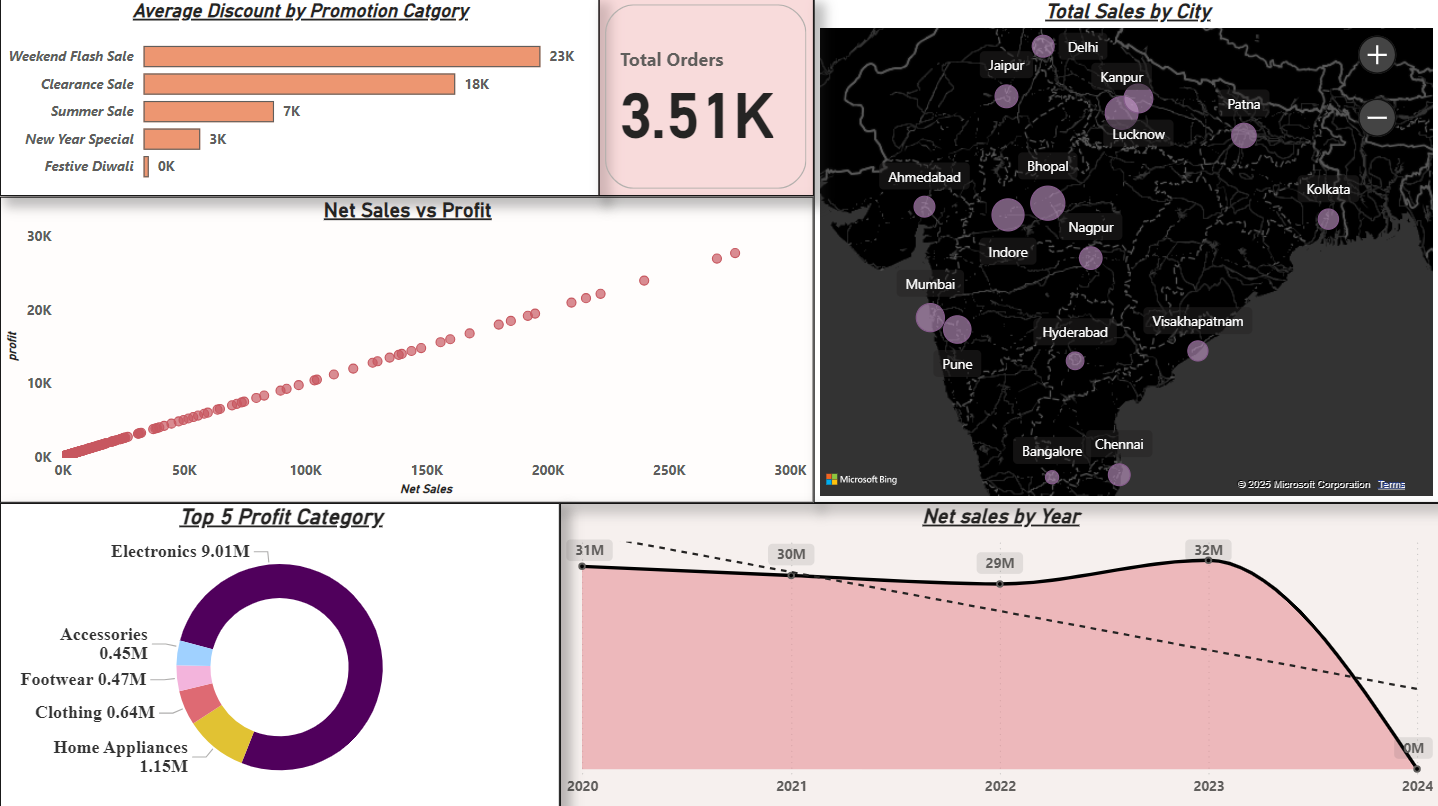

What the dashboard file says about the page in this screenshot:
{"tool":"powerbi","page":{"name":"sales by region,catgory and total order","canvas":[1280,720],"ordinal":0},"visuals":[{"type":"scatterChart","title":"Net Sales vs Profit","fields":{"X":["Fact Table.net sales"],"Y":["Fact Table.profit"]},"box":[0,177,691.6,249.7],"z":0},{"type":"barChart","title":"Average Discount by Promotion Catgory","fields":{"Y":["Avg(Fact Table.discount value )"],"Category":["Dim Promotion.Promotion Name"]},"box":[0,0,502.2,176.7],"z":1000},{"type":"map","title":"Total Sales by City","fields":{"Category":["Dim Customers.City"],"Size":["Sum(Fact Table.net sales)"]},"box":[691.6,0,587.3,426.8],"z":2000},{"type":"cardVisual","title":"Total Orders","fields":{"Data":["Count(Fact Table.Order ID)"]},"box":[502.2,0,190,176.7],"z":3000},{"type":"areaChart","fields":{"Y":["Sum(Fact Table.net sales)"],"Category":["Date Table 1.Date.Variation.Date Hierarchy.Year","Date Table 1.Date.Variation.Date Hierarchy.Quarter","Date Table 1.Date.Variation.Date Hierarchy.Month","Date Table 1.Date.Variation.Date Hierarchy.Day"]},"box":[0,426.7,1278.9,293.3],"z":4000}]}

Visuals, with their boxes in screenshot pixels (x1, y1, x2, y2), scaled from the page's 1280x720 canvas onto the 1438x806 screenshot:
"Net Sales vs Profit" scatterChart: (0, 198, 777, 478)
"Average Discount by Promotion Catgory" barChart: (0, 0, 564, 198)
"Total Sales by City" map: (777, 0, 1437, 478)
"Total Orders" cardVisual: (564, 0, 778, 198)
areaChart - Sum(Fact Table.net sales) x Date Table 1.Date.Variation.Date Hierarchy.Year: (0, 478, 1437, 805)
